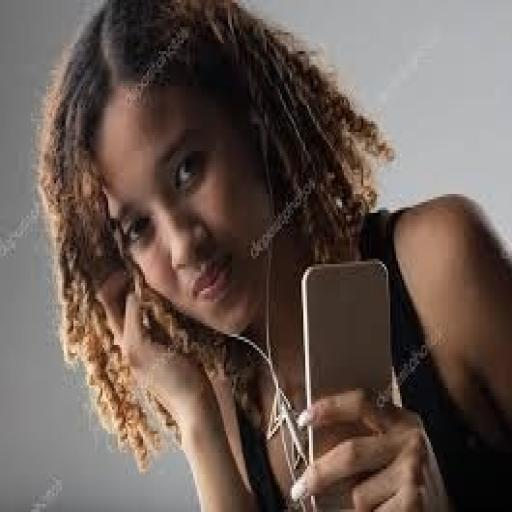listening_to_music: (34, 0, 510, 509)
